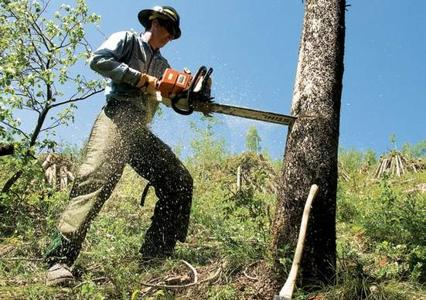person: (42, 7, 213, 288)
